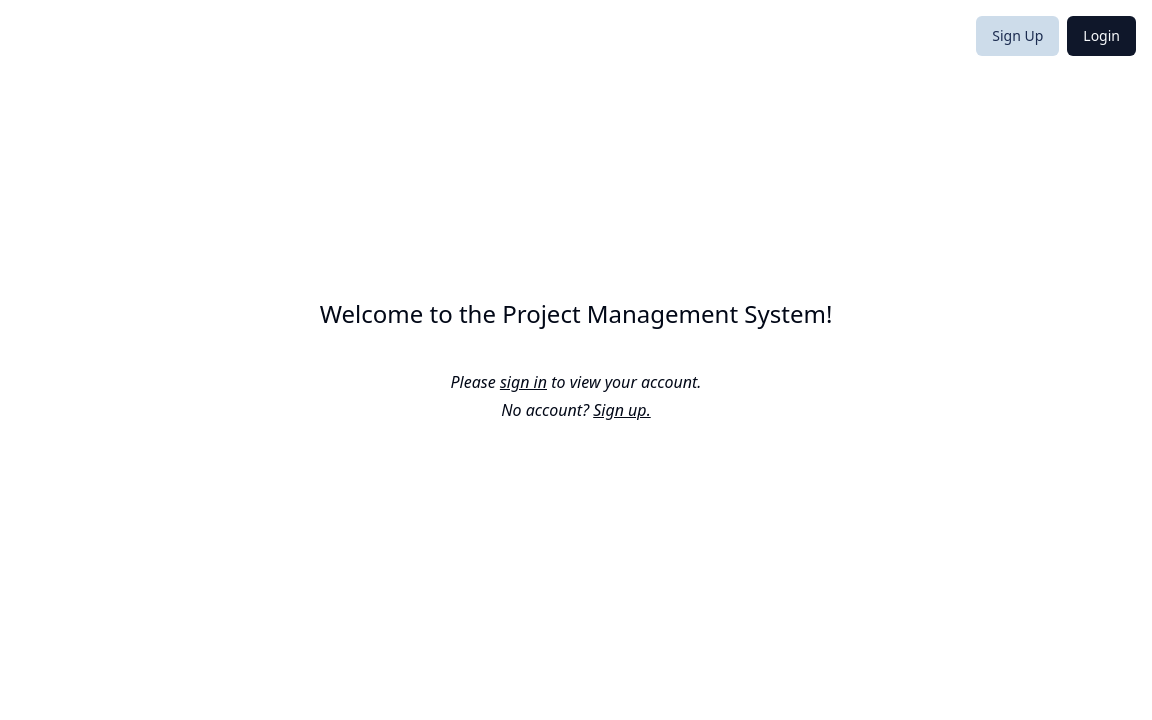
Home Page › should open login popup
Click the button with aria-label "Login": {"x": 1102, "y": 36} [1067,16,1136,56]
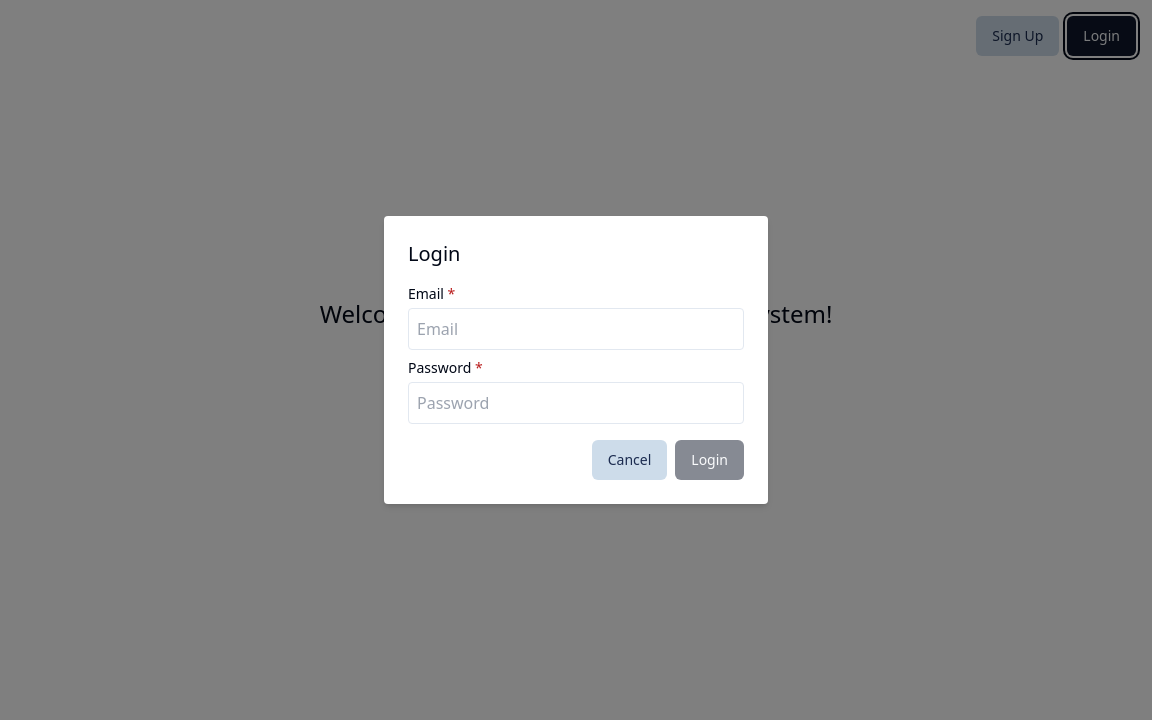
Check: the element named "Login Popup" is shown
